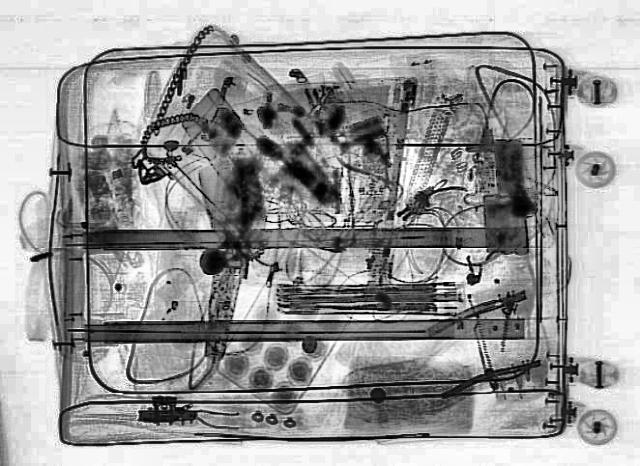Pliers: (329, 134, 423, 198)
